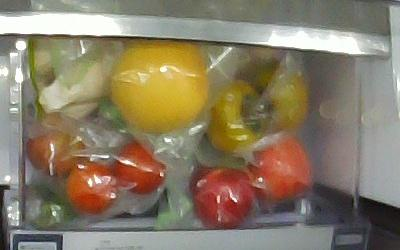apple_vinyl: (245, 137, 310, 202), (188, 166, 253, 228)
grapefruit_vinyl: (110, 40, 207, 134)
persimmon_vinyl: (241, 65, 309, 128), (207, 82, 264, 154)
prune_vinyl: (113, 141, 167, 192), (27, 129, 86, 175), (65, 162, 116, 213)
